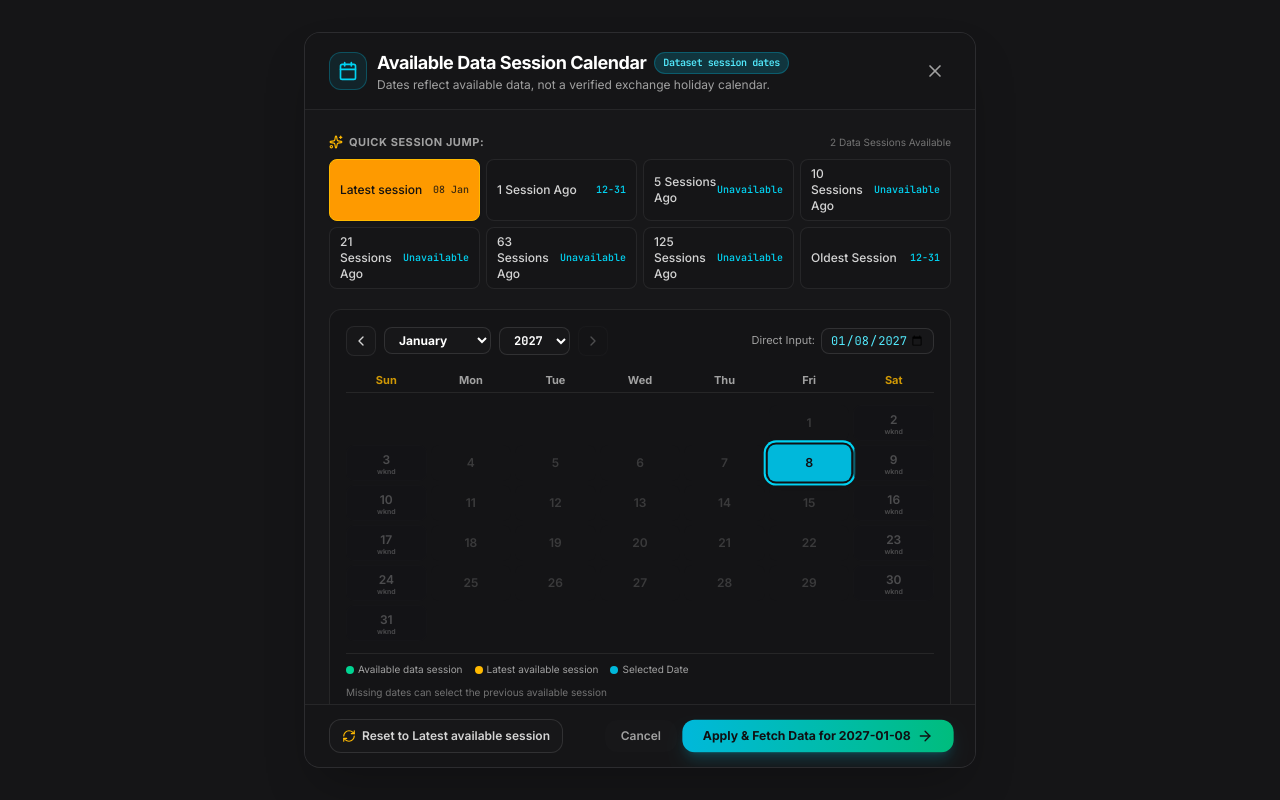
Test: derives year and month navigation bounds from the dataset, including dates after 2026
This screenshot has width=1280, height=800.
Check: the button titled "Next Month" is disabled, box [578,326,608,356]
Click the button titled "Previous Month".
click(361, 340)  # box [346,326,376,356]
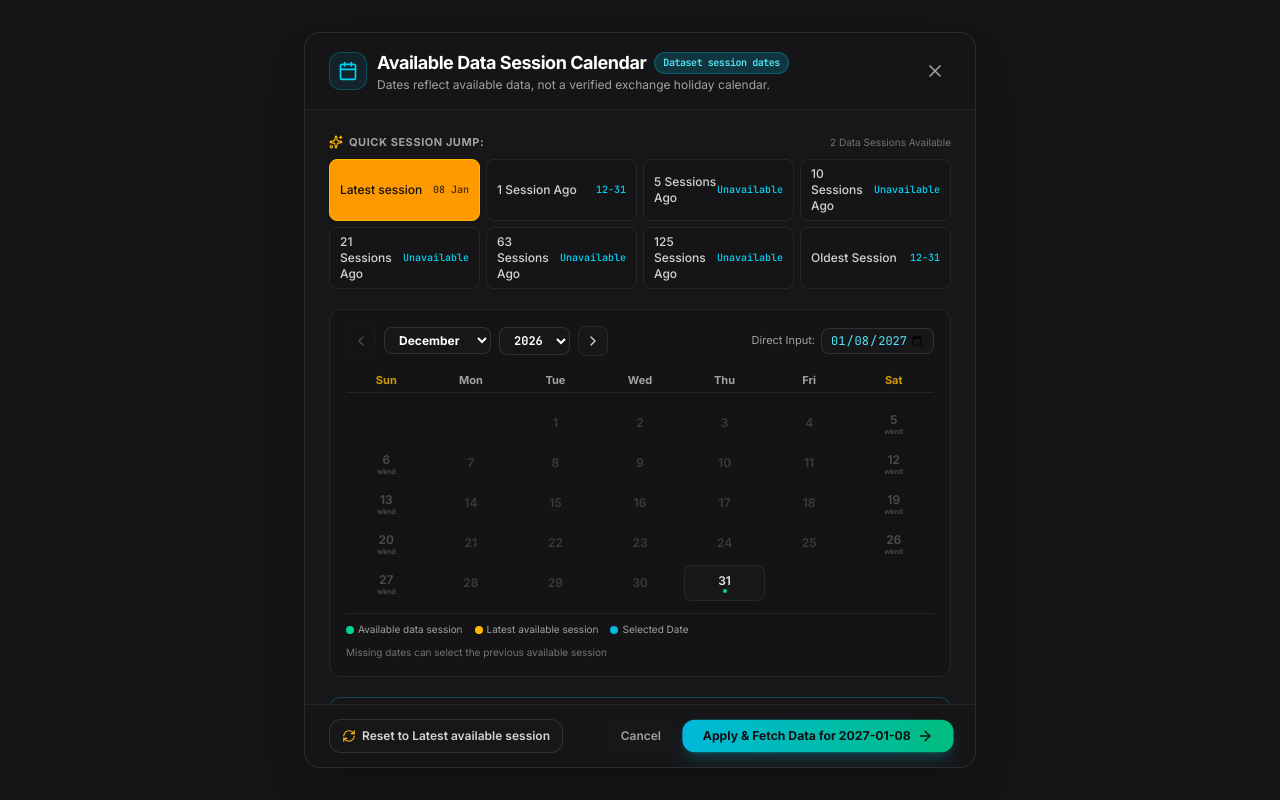
Check: the button titled "Next Month" is enabled, box [578,326,608,356]
Check: the 1st dropdown shows "December", box [384,327,491,354]
Check: the 2nd dropdown shows "2026", box [499,326,570,354]
